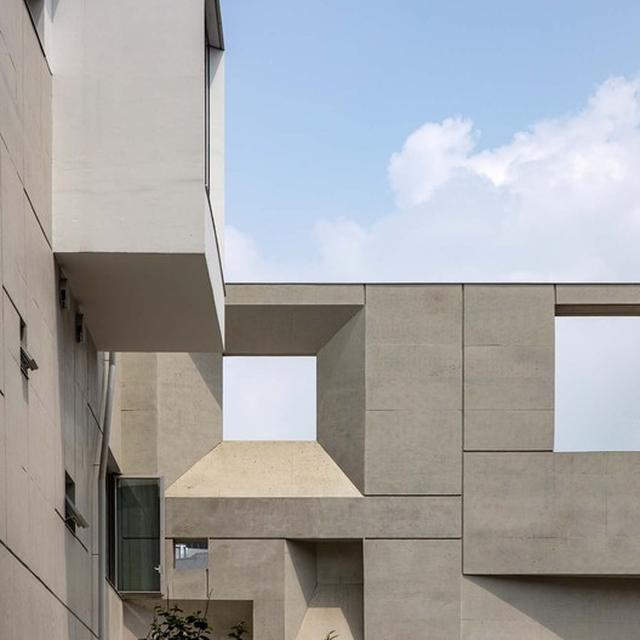building: (124, 281, 639, 640), (2, 2, 224, 640)
